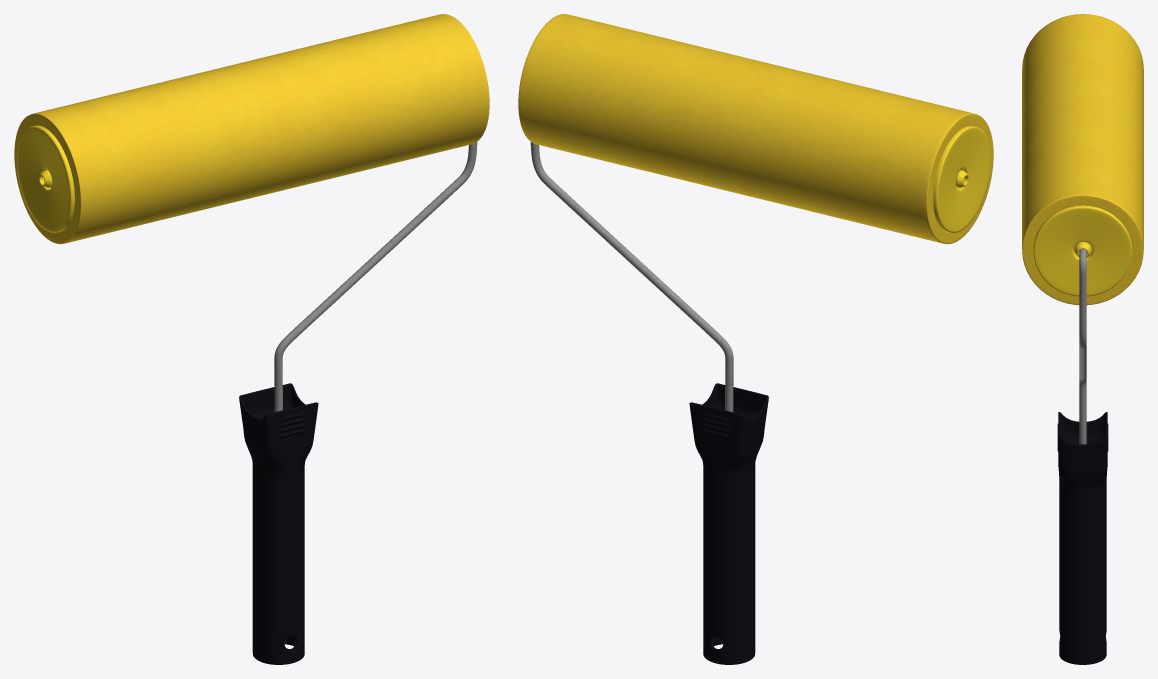
3 views of the same model, side by side, from view 1: azimuth 30°, elevation 25°; view 2: azimuth 150°, elevation 25°; view 3: azimuth 270°, elevation 25° (orthographic). The views are drawn at different scales.
Parts seen in each view (by area): view 1: Paint_Roller; view 2: Paint_Roller; view 3: Paint_Roller.
Part boxes in pixels (box(x1,y1,x2,y2)): Paint_Roller: box(14, 14, 489, 664); Paint_Roller: box(518, 14, 993, 664); Paint_Roller: box(1022, 14, 1143, 664).
Bounding box in the file's own units: 0.2404 × 0.3114 × 0.0638.
1 material, 1 textured.
